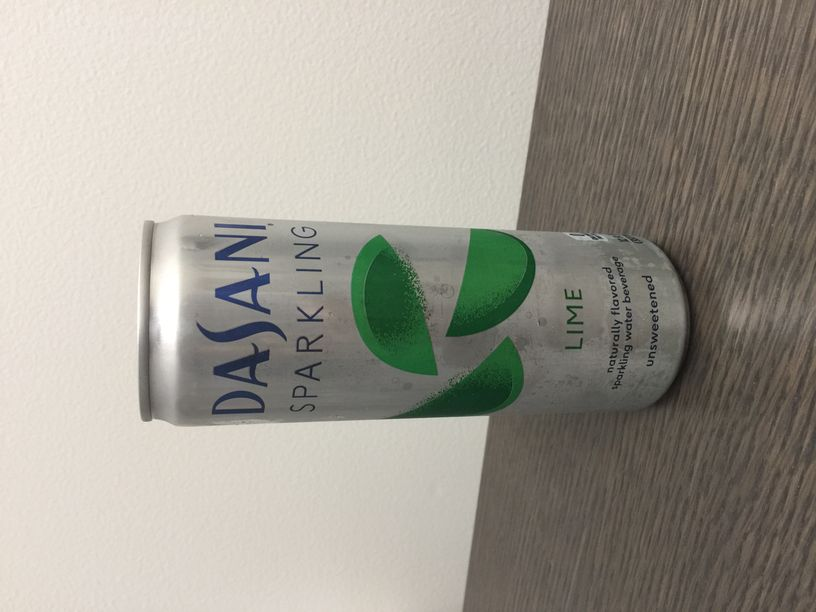lime: (137, 216, 690, 426)
